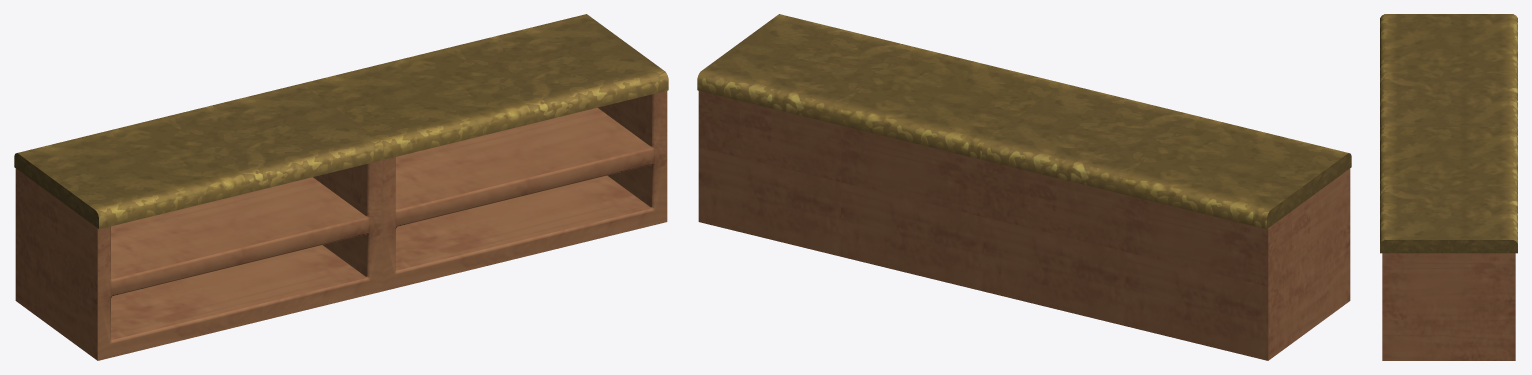
File: DI_062_cabinet_var03.glb
3 views of the same model, side by side, from view 1: azimuth 30°, elevation 25°; view 2: azimuth 150°, elevation 25°; view 3: azimuth 270°, elevation 25° (orthographic). The views are drawn at different scales.
Parts seen in each view (by area): view 1: Cabinet.007, Cabinet.002; view 2: Cabinet.007, Cabinet.002; view 3: Cabinet.002, Cabinet.007.
Part boxes in pixels (x1=…): Cabinet.007: x1=14, y1=83, x2=383, y2=360; Cabinet.002: x1=302, y1=14, x2=668, y2=291; Cabinet.007: x1=982, y1=83, x2=1351, y2=360; Cabinet.002: x1=697, y1=14, x2=1063, y2=291; Cabinet.002: x1=1380, y1=127, x2=1517, y2=360; Cabinet.007: x1=1380, y1=14, x2=1517, y2=130.
Bounding box in the file's own units: 3 × 0.75 × 0.7743.
2 materials, 2 textured.
